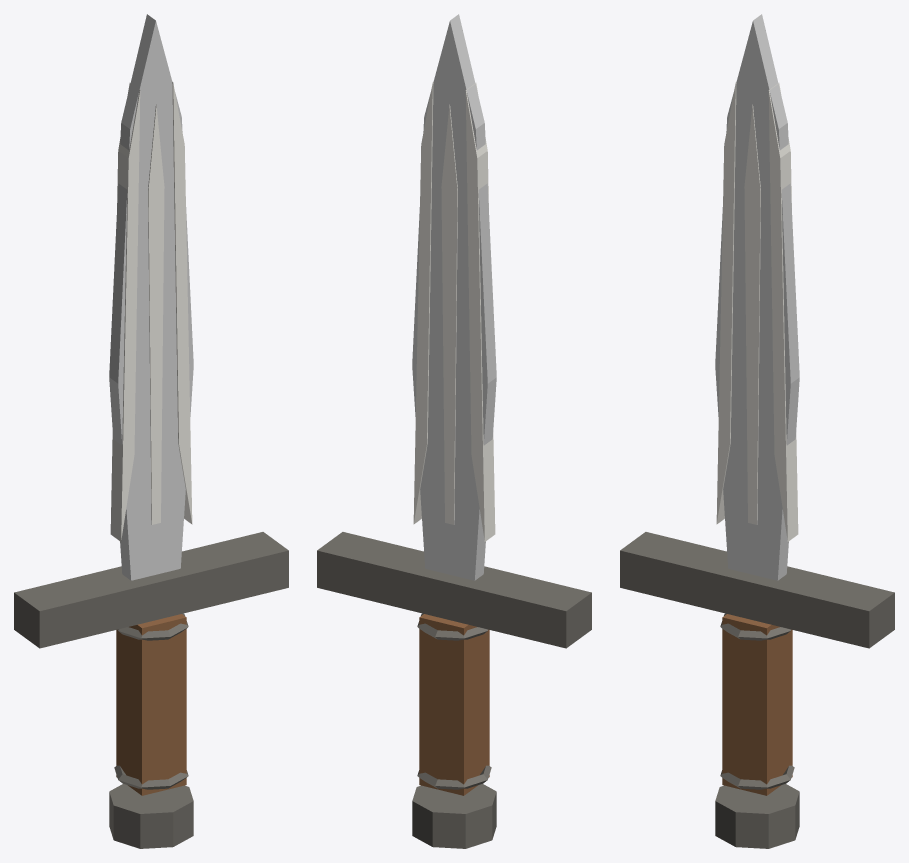
The model's file is t1_one_handed_sword.glb.
3 renders of one model, left to right at view 1: azimuth 30°, elevation 25°; view 2: azimuth 150°, elevation 25°; view 3: azimuth 330°, elevation 25°, orthographic.
Visible parts, largest first — view 1: Blade, Guard, Grip, LeftBladeEdge, Fuller, RightBladeEdge, Pommel, BottomGripRing, TopGripRing; view 2: Blade, Guard, Grip, LeftBladeEdge, Fuller, RightBladeEdge, Pommel, BottomGripRing, TopGripRing; view 3: Blade, Guard, Grip, RightBladeEdge, Fuller, LeftBladeEdge, Pommel, BottomGripRing, TopGripRing.
Part boxes in pixels (<box>): Blade: <box>109,14,193,580</box>; Guard: <box>14,532,288,648</box>; Grip: <box>116,614,186,795</box>; LeftBladeEdge: <box>110,83,140,541</box>; Fuller: <box>148,104,164,524</box>; RightBladeEdge: <box>172,82,192,524</box>; Pommel: <box>109,783,193,848</box>; BottomGripRing: <box>114,765,188,789</box>; TopGripRing: <box>118,613,188,640</box>; Blade: <box>412,14,496,580</box>; Guard: <box>317,532,591,648</box>; Grip: <box>419,614,489,795</box>; LeftBladeEdge: <box>465,83,495,541</box>; Fuller: <box>441,104,457,524</box>; RightBladeEdge: <box>413,82,433,524</box>; Pommel: <box>412,783,496,848</box>; BottomGripRing: <box>417,765,491,789</box>; TopGripRing: <box>417,613,487,640</box>; Blade: <box>715,14,799,580</box>; Guard: <box>620,532,894,648</box>; Grip: <box>722,614,792,795</box>; RightBladeEdge: <box>768,83,798,541</box>; Fuller: <box>744,104,760,524</box>; LeftBladeEdge: <box>716,82,736,524</box>; Pommel: <box>715,783,799,848</box>; BottomGripRing: <box>720,765,794,789</box>; TopGripRing: <box>720,613,790,640</box>.
Size of the model in its own units: 0.56 by 1.75 by 0.17.
